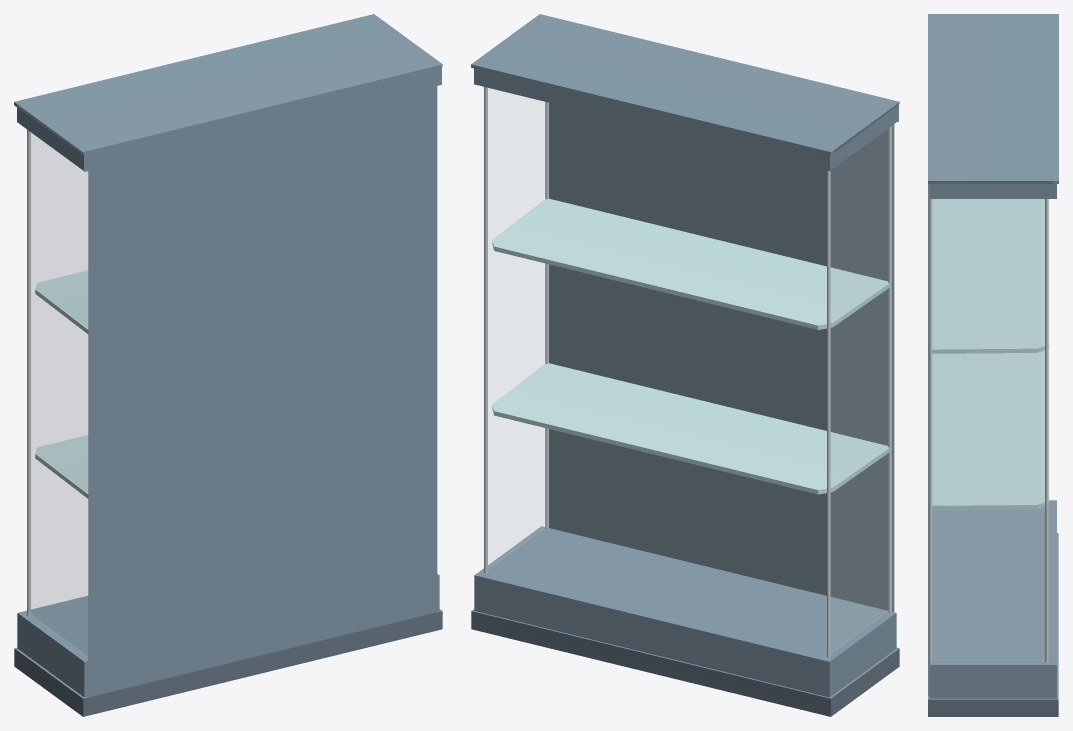
Rendered from Trophy Case.fbx.
The picture shows the model from 3 angles, left to right: view 1: azimuth 30°, elevation 25°; view 2: azimuth 150°, elevation 25°; view 3: azimuth 270°, elevation 25°; orthographic projection. The views are drawn at different scales.
Parts seen in each view (by area): view 1: pCylinder5; view 2: pCylinder5; view 3: pCylinder5.
Part boxes in pixels (x1,y1,x2,y2): pCylinder5: (14, 14, 442, 716); pCylinder5: (471, 14, 899, 716); pCylinder5: (928, 14, 1058, 716).
Size of the model in its own units: 3.16 by 4.74 by 1.05.
Materials: 2 (2 with a texture image).
